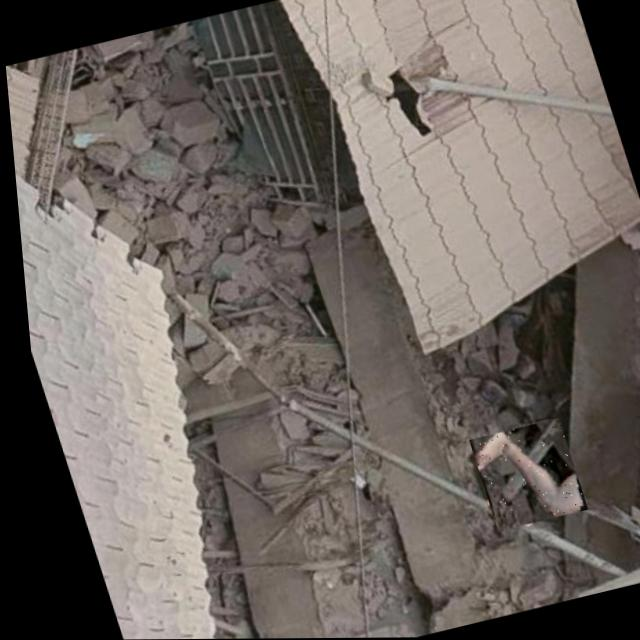Person in Rubble: (457, 418, 578, 532)
